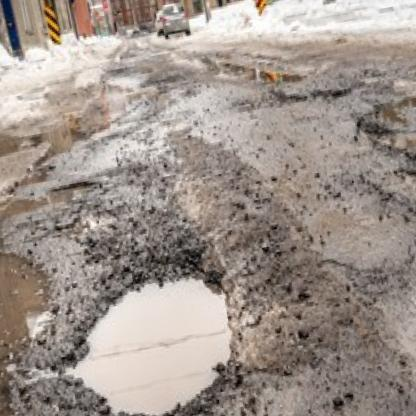pothole: (47, 247, 254, 416), (41, 177, 98, 207)
